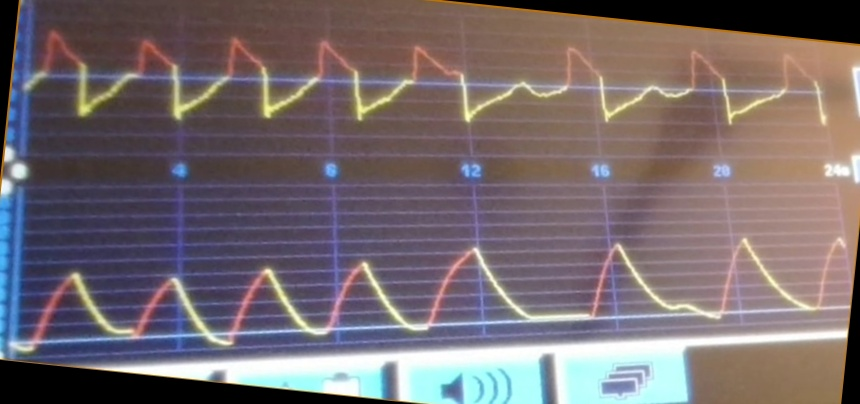Ineffective_effort Flow: (29, 25, 828, 137)
Ineffective_effort Volume: (21, 227, 847, 356)
